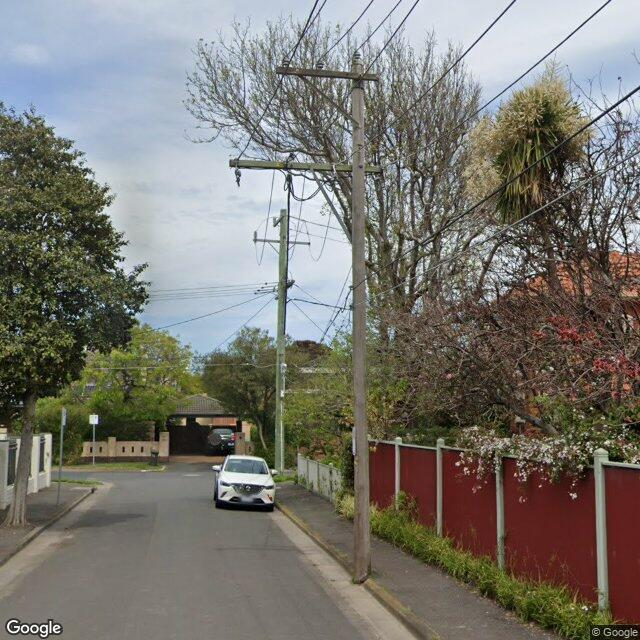HV-transmission: (283, 51, 362, 69), (254, 216, 276, 240)
crossarm: (229, 159, 382, 173), (275, 67, 379, 81), (274, 279, 295, 300), (253, 239, 310, 245), (273, 216, 283, 227)
timber-pole: (351, 63, 372, 584), (274, 209, 288, 476)
